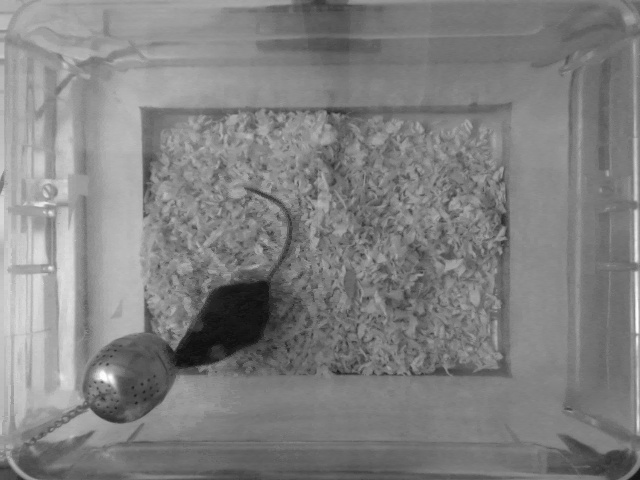mice: (163, 184, 292, 372)
